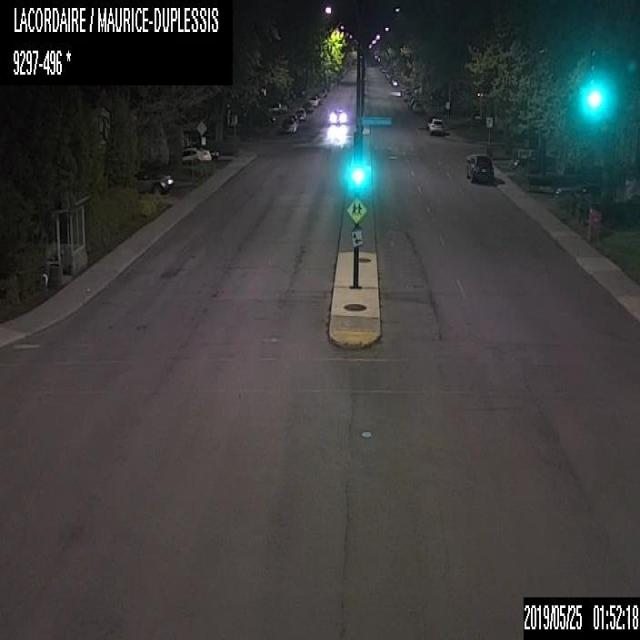vehicle: (132, 167, 173, 195), (553, 179, 601, 199), (464, 152, 494, 183), (510, 154, 556, 171), (182, 143, 210, 163), (326, 105, 349, 124), (426, 115, 444, 133), (282, 113, 298, 132), (408, 94, 423, 112), (205, 146, 218, 160), (293, 107, 306, 121), (302, 101, 314, 112), (309, 95, 319, 106)
